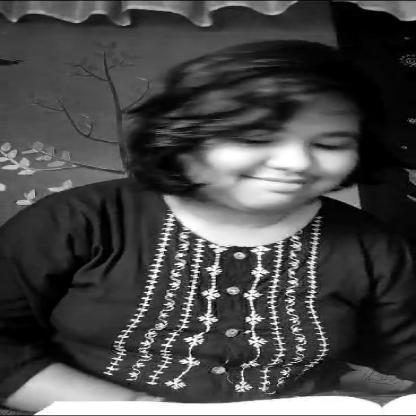Distracted: (176, 76, 374, 222)
